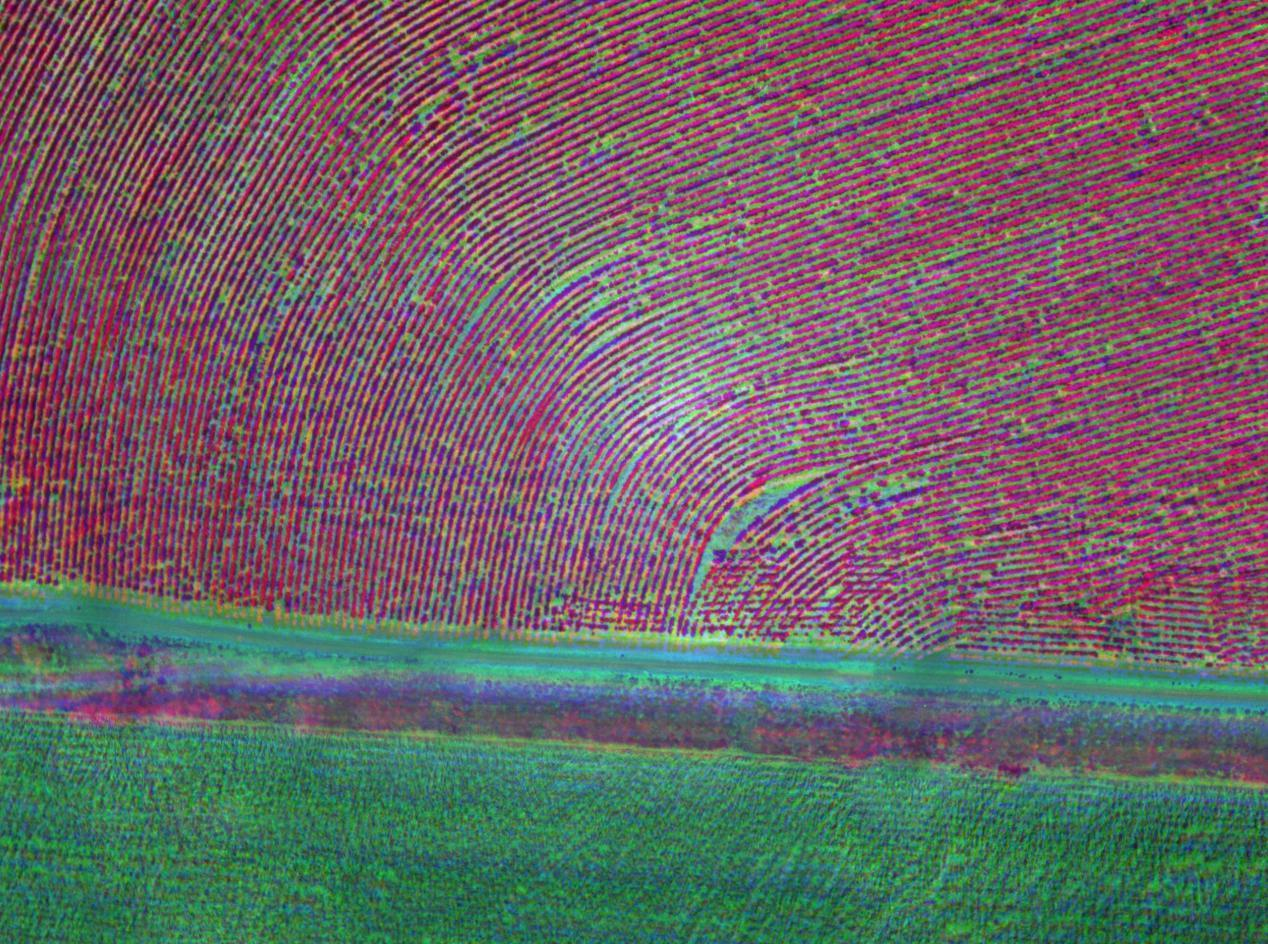dc: (411, 35, 565, 163), (473, 243, 635, 351), (678, 468, 828, 579), (101, 73, 233, 195), (123, 238, 255, 335)
